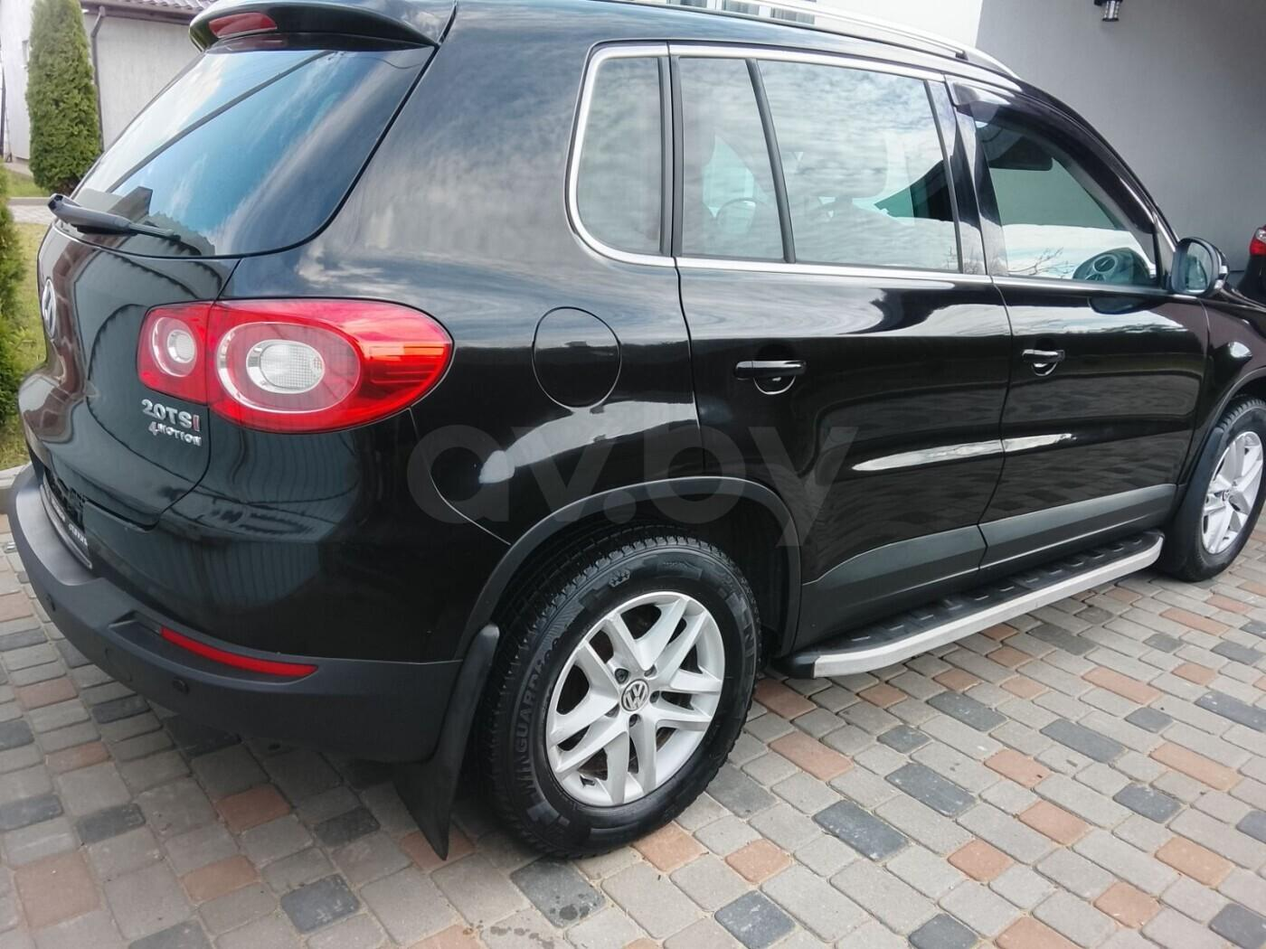Tiguan_2007-2011: (0, 0, 1266, 856)
